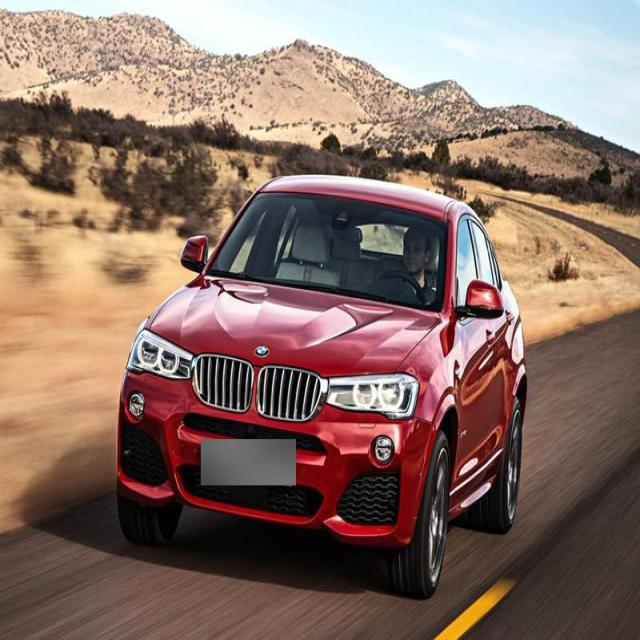front_bumper: (116, 369, 437, 549)
front_glass: (204, 192, 450, 316)
front_left_side_door: (451, 214, 497, 514)
front_left_side_light: (325, 369, 421, 423)
front_left_side_mirror: (462, 276, 505, 323)
front_right_side_light: (125, 328, 198, 388)
front_right_side_mirror: (179, 234, 209, 278)
wheel: (393, 436, 452, 597), (490, 401, 524, 532)
